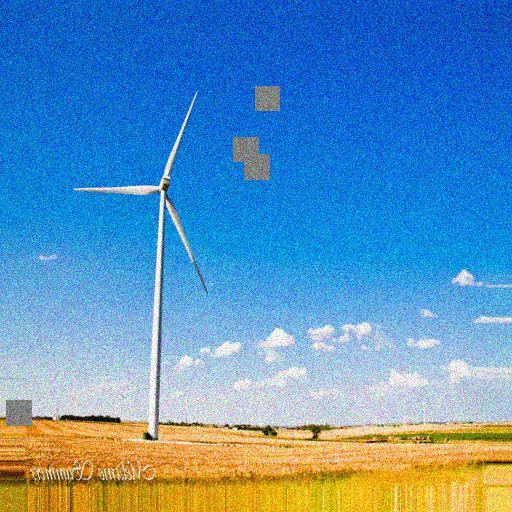wind turbine: (73, 91, 208, 445)
